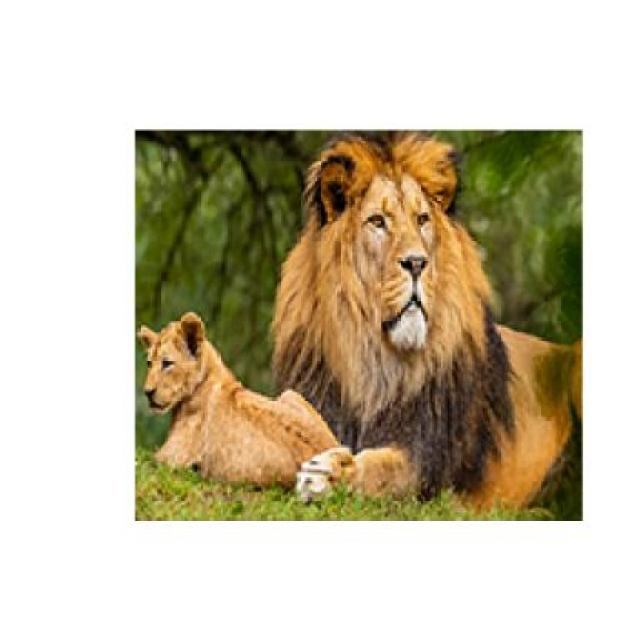Lion: (269, 125, 626, 512), (126, 309, 346, 545)
